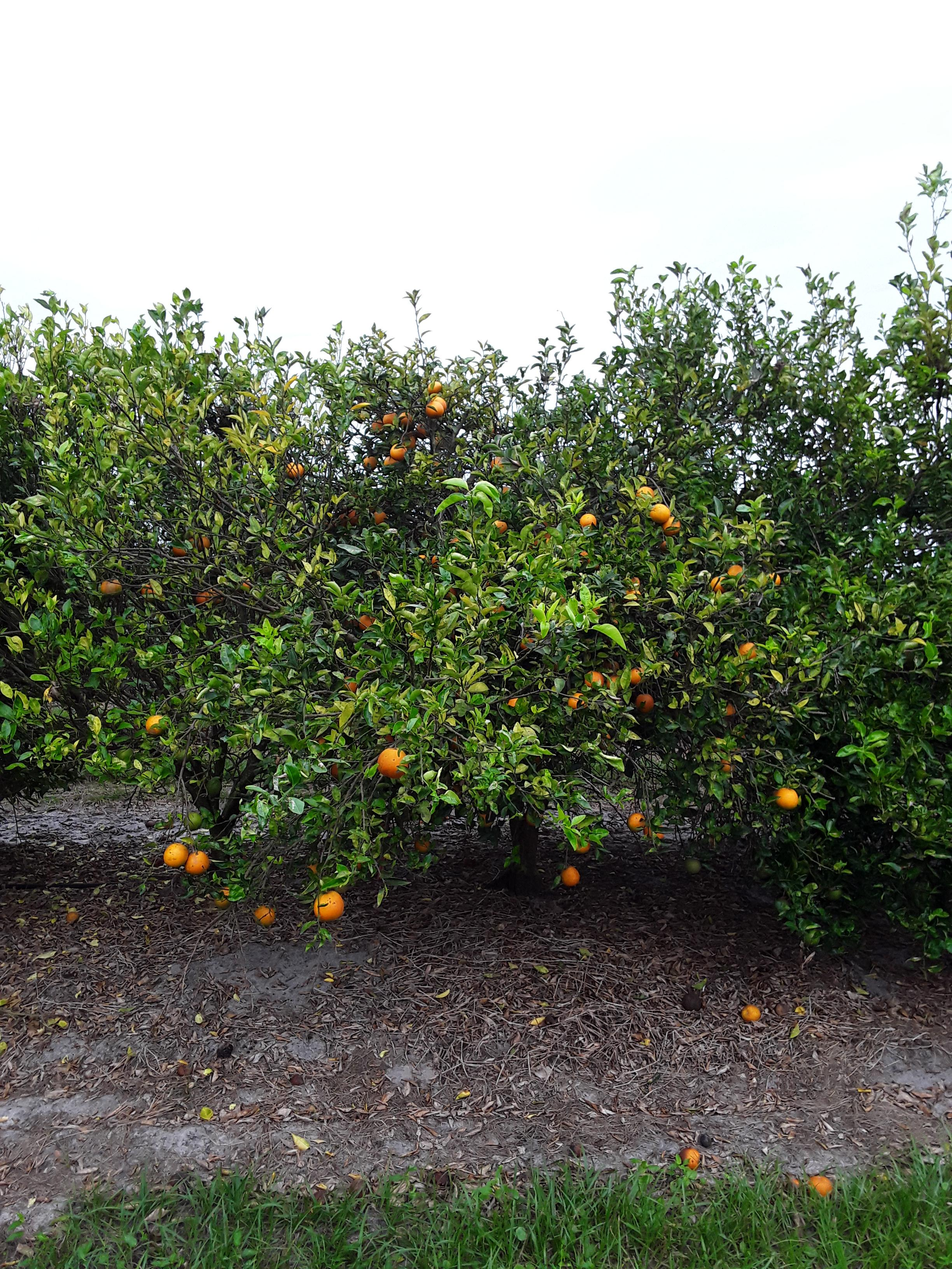fruit_on_ground: (311, 888, 346, 923), (377, 745, 412, 780), (161, 839, 190, 868), (192, 585, 224, 610), (304, 733, 332, 761), (184, 849, 211, 875), (143, 711, 169, 737), (773, 785, 800, 810), (735, 639, 762, 664), (252, 903, 278, 928), (138, 578, 165, 602), (374, 729, 402, 752), (615, 665, 644, 687), (558, 864, 583, 888), (168, 535, 194, 558), (569, 832, 595, 855), (561, 690, 587, 713), (605, 670, 632, 692), (98, 576, 125, 598), (583, 668, 608, 691), (642, 819, 666, 842), (530, 530, 555, 552), (633, 482, 658, 504), (706, 573, 729, 596), (622, 575, 645, 598), (798, 926, 821, 949), (723, 560, 747, 582), (625, 810, 649, 832), (648, 501, 672, 523), (473, 808, 496, 830), (283, 459, 306, 481), (212, 884, 233, 908), (516, 631, 540, 652), (335, 509, 358, 530), (764, 570, 787, 591), (661, 516, 684, 537), (113, 744, 136, 765), (503, 692, 527, 712), (426, 394, 450, 414), (412, 834, 434, 855), (326, 759, 348, 780), (634, 691, 655, 713), (600, 657, 623, 677), (436, 584, 460, 603), (427, 553, 451, 572), (184, 810, 205, 831), (682, 855, 703, 876), (574, 547, 596, 567), (715, 756, 737, 776), (523, 807, 544, 827), (194, 531, 214, 552), (357, 612, 378, 632), (578, 511, 600, 530), (720, 699, 740, 719), (340, 676, 361, 695), (824, 884, 844, 903), (490, 517, 510, 536), (303, 859, 324, 877), (487, 600, 508, 618), (380, 453, 402, 470), (234, 576, 253, 595), (488, 454, 507, 473), (424, 400, 444, 418), (653, 538, 672, 556), (397, 410, 415, 429), (371, 508, 389, 526), (389, 442, 407, 460), (399, 433, 418, 450), (257, 561, 275, 578), (366, 418, 384, 435), (381, 409, 398, 427), (361, 453, 379, 470), (425, 377, 443, 394), (413, 552, 431, 569), (586, 601, 604, 617), (446, 533, 464, 549), (498, 482, 515, 496), (415, 422, 429, 437), (144, 819, 156, 829)
fruit_on_tree: (805, 1173, 834, 1200), (677, 1145, 703, 1173), (680, 989, 707, 1014), (344, 1173, 370, 1197), (429, 1167, 454, 1190), (740, 1003, 761, 1023), (173, 1058, 193, 1078), (695, 1130, 715, 1148), (63, 908, 82, 925), (786, 1174, 802, 1190), (773, 1002, 788, 1016)
